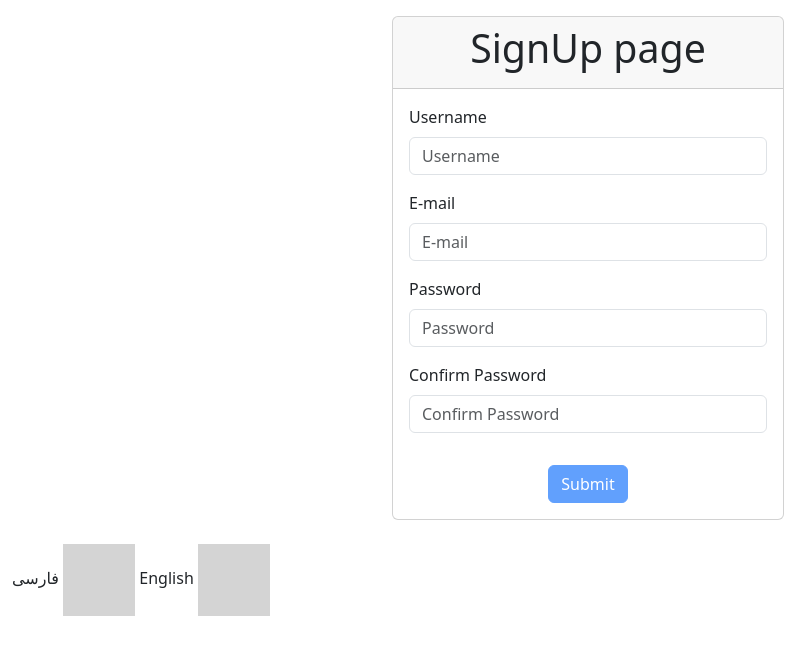
SignUp page › Interaction › displays spinner while api request is waiting
The image size is (801, 658).
Step 1. Type "user1" into the field with placeholder "Username" → (588, 156), box [409,137,767,175]
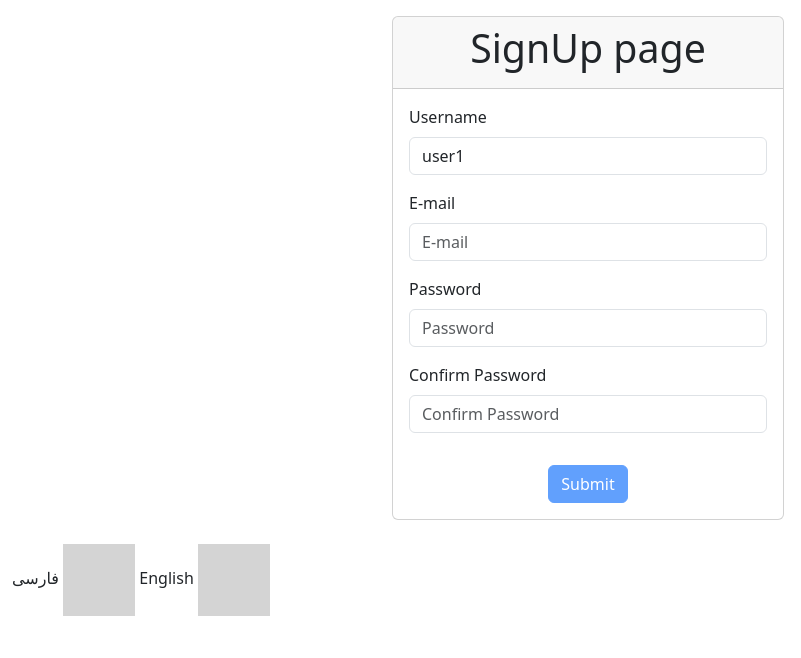
Step 2. Type "123Zasdsd2@" into the password field with placeholder "Password" → (588, 328), box [409,309,767,347]
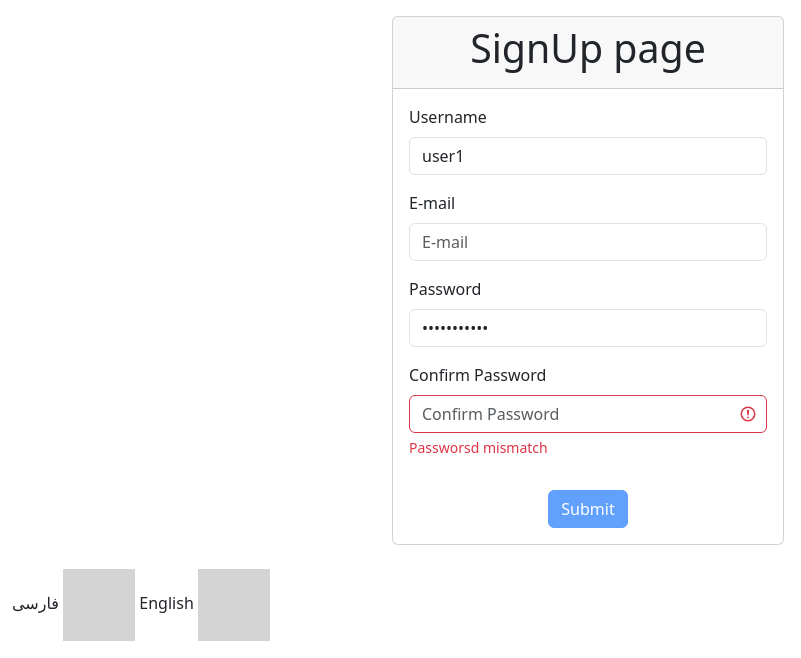
Step 3. Type "user1@mail.com" into the field with placeholder "E-mail" → (588, 242), box [409,223,767,261]
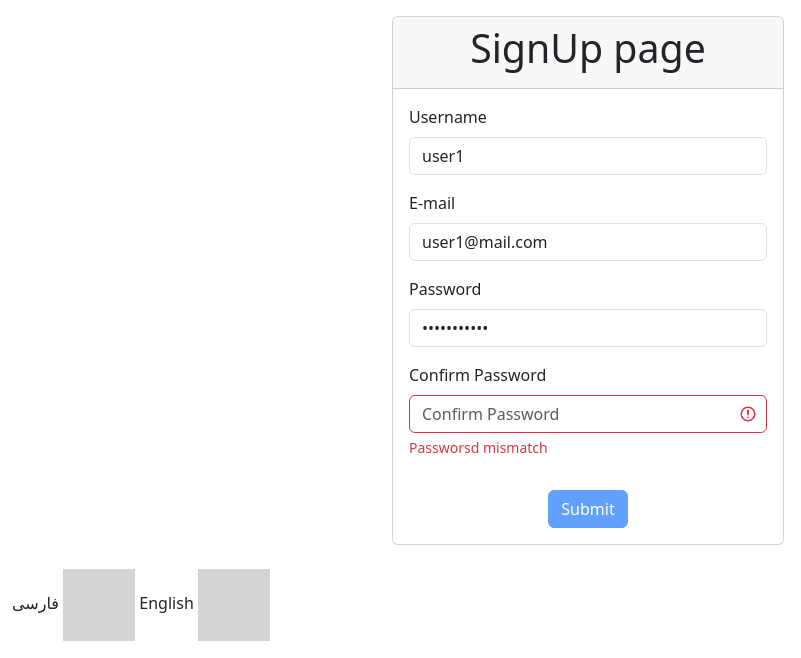
Step 4. Type "123Zasdsd2@" into the password field with placeholder "Confirm Password" → (588, 414), box [409,395,767,433]
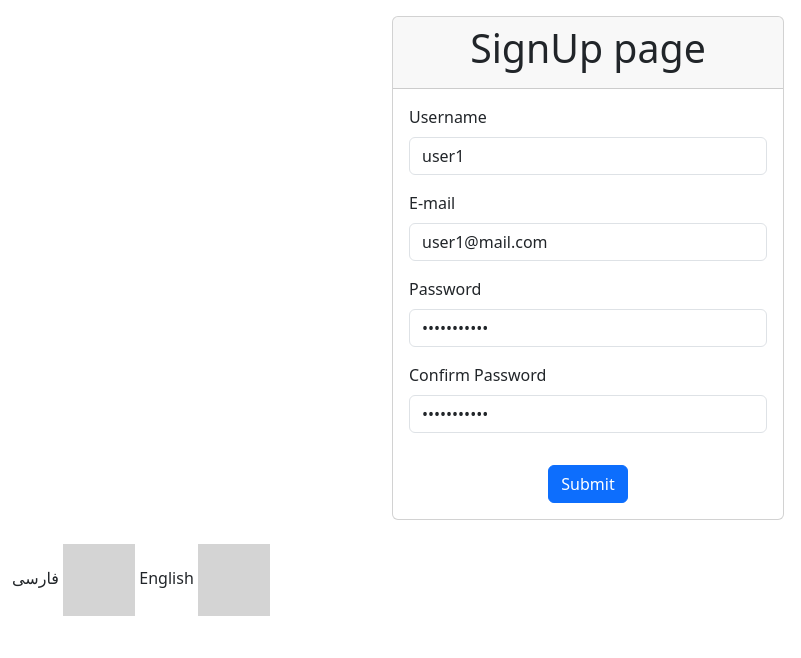
Step 5. Click the button "Submit" → (588, 484), box [548,465,628,503]
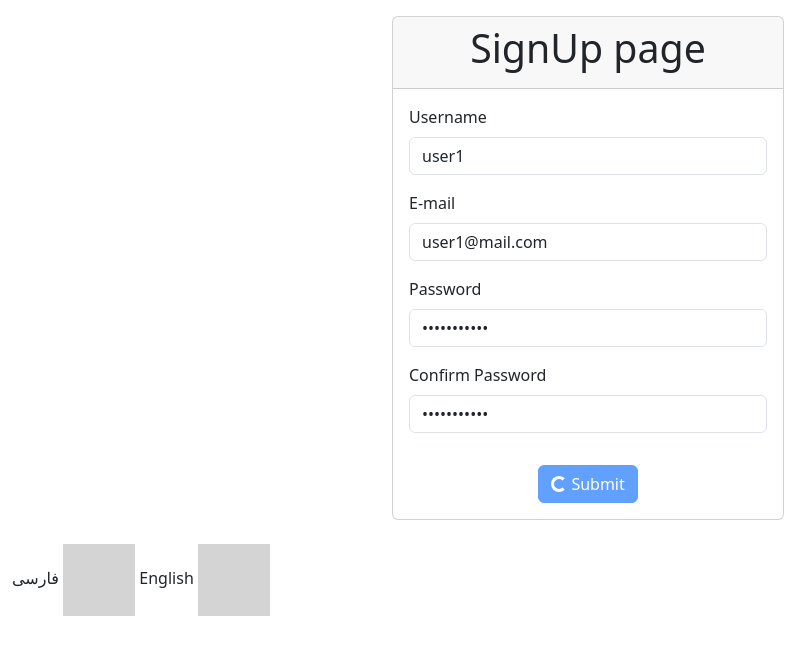
Expected: the message is shown, [551,476,567,492]
